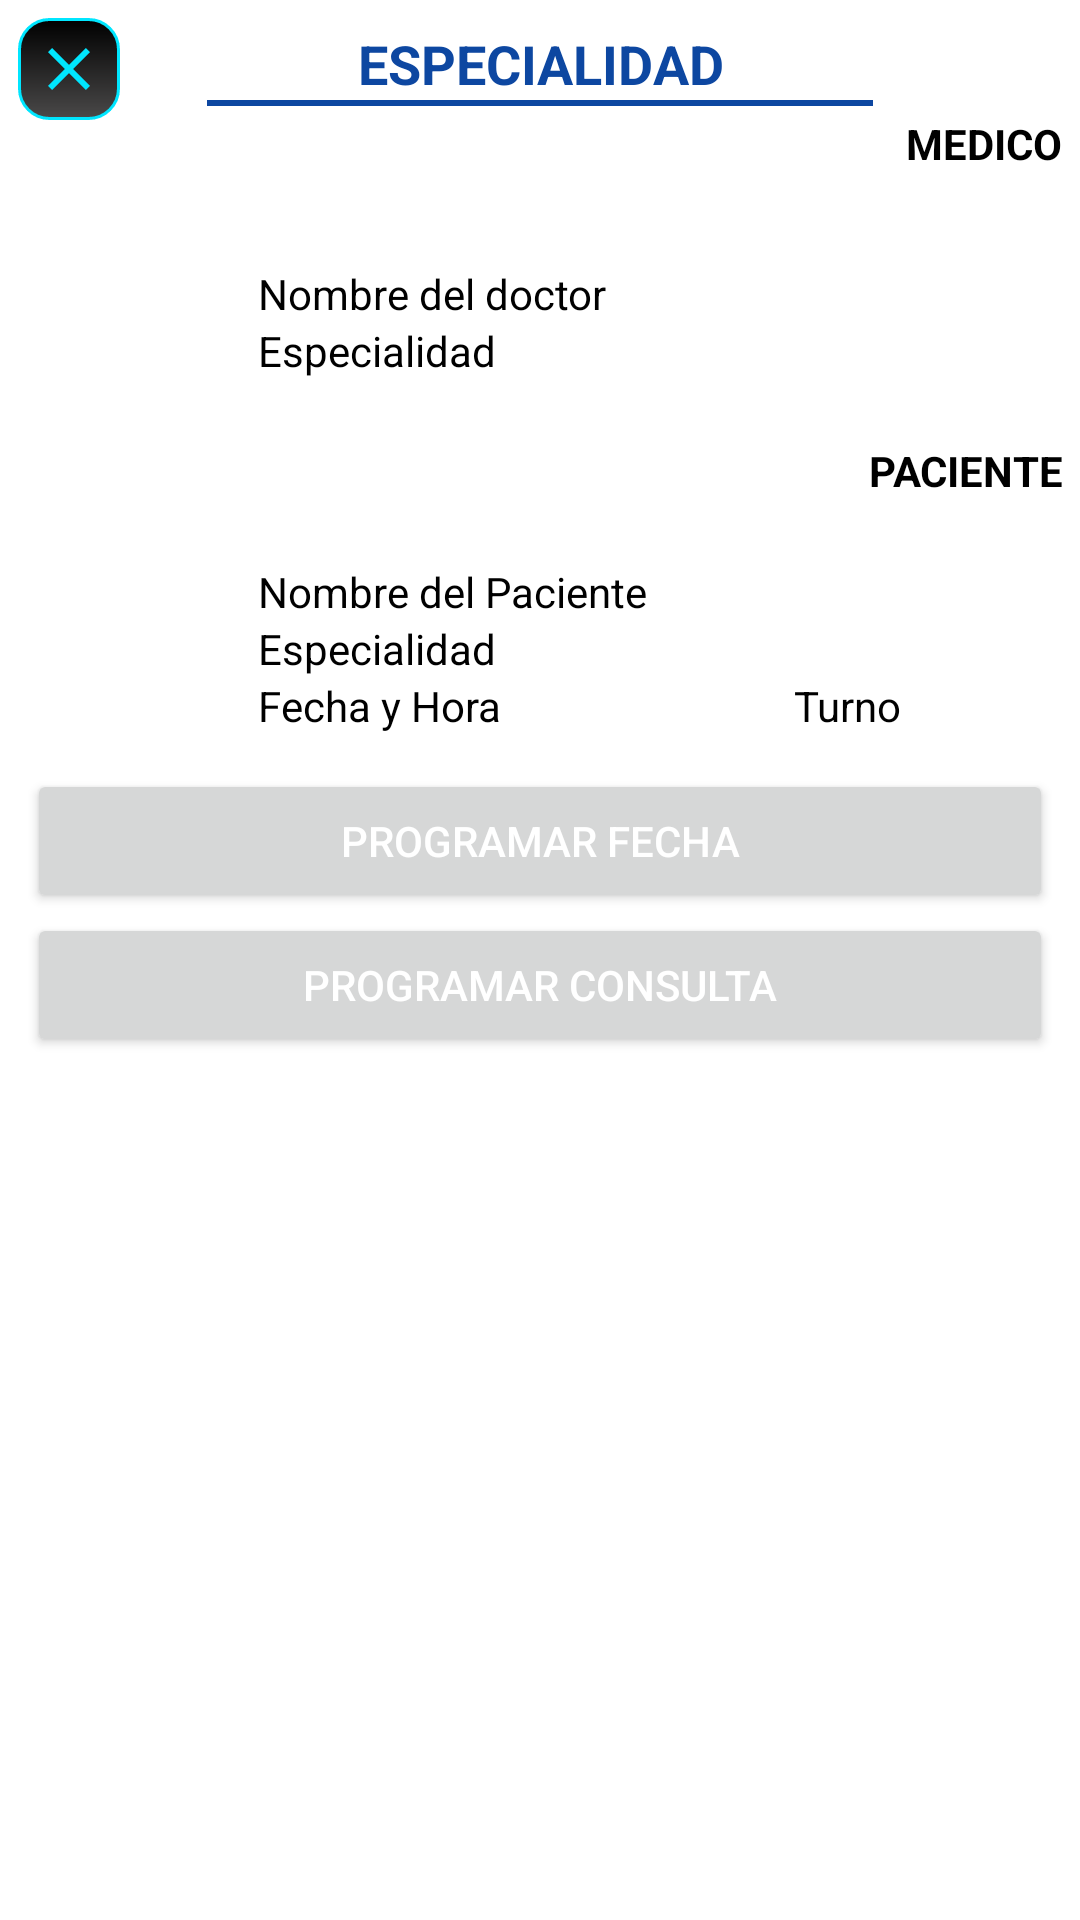

Icons on this 1080*1920 Android screen, each with its box as bbox=(x1, y1, x2, y2):
close: bbox=(18, 18, 120, 120)
